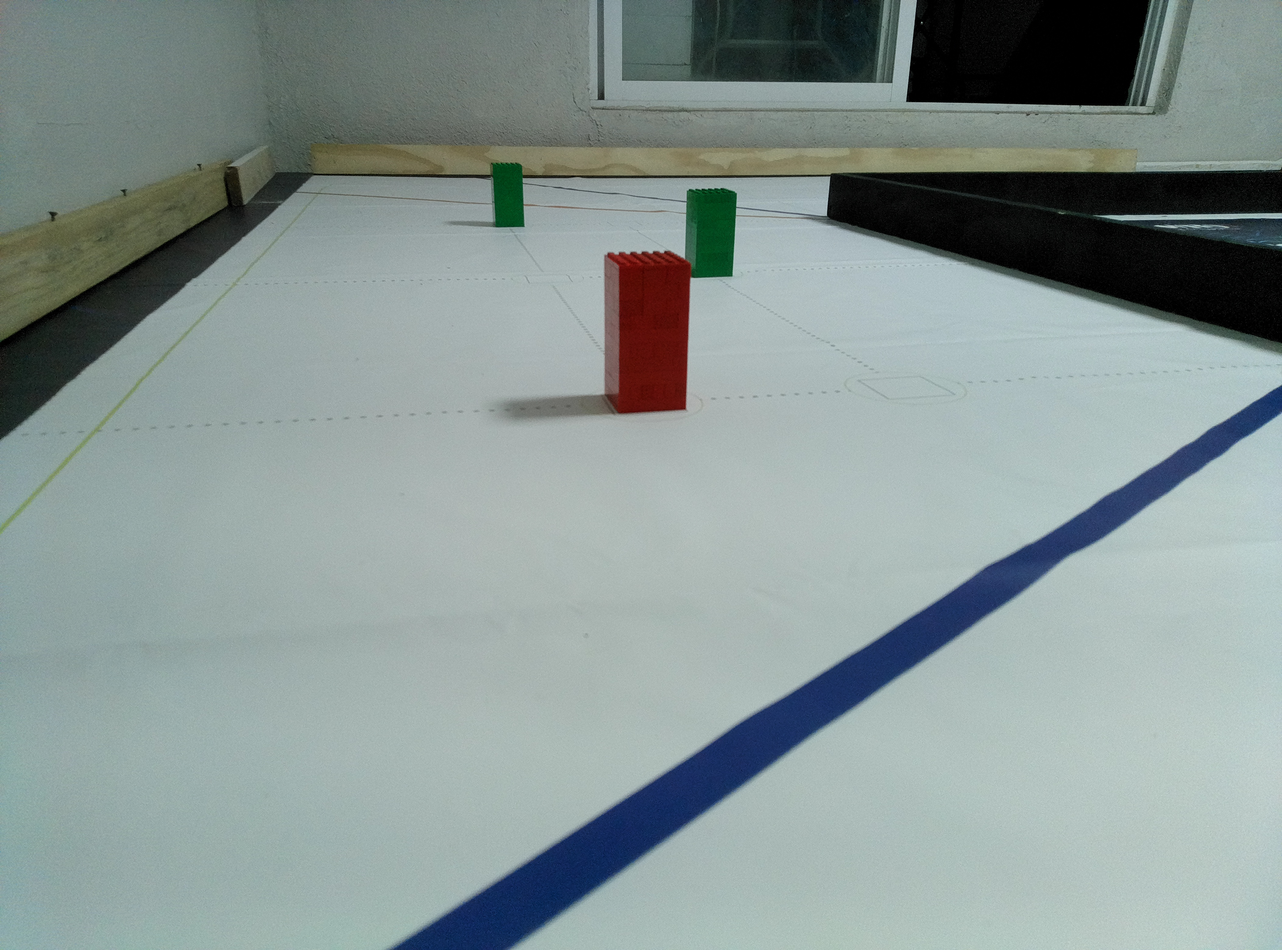greenbox: (685, 189, 738, 278), (489, 162, 524, 227)
redbox: (603, 250, 693, 415)
